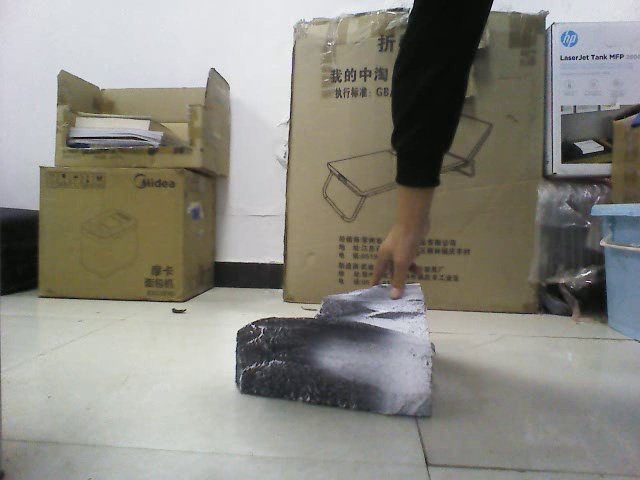rock: (227, 280, 448, 424)
